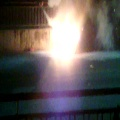fire: (48, 13, 80, 64)
